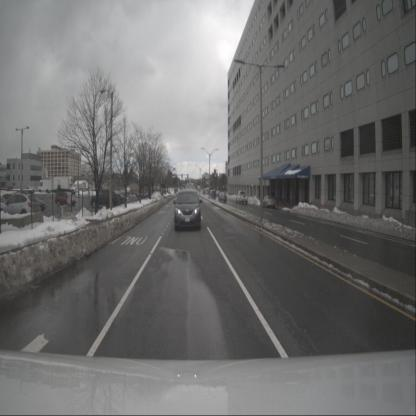vehicle-car: (0, 193, 40, 225), (174, 189, 201, 231), (90, 189, 119, 208), (22, 194, 46, 211), (55, 190, 77, 207), (110, 190, 129, 204), (261, 195, 276, 208), (137, 190, 149, 200), (22, 186, 36, 194), (218, 192, 227, 203), (210, 190, 216, 199)
vehicle-truck: (53, 176, 76, 195), (37, 179, 53, 193), (236, 191, 248, 204)
